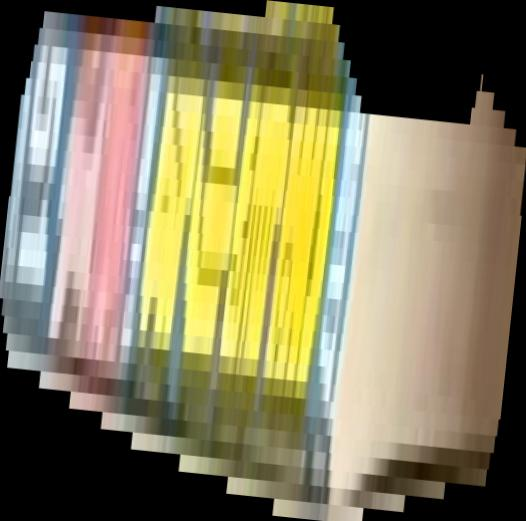flat: (1, 1, 526, 521)
